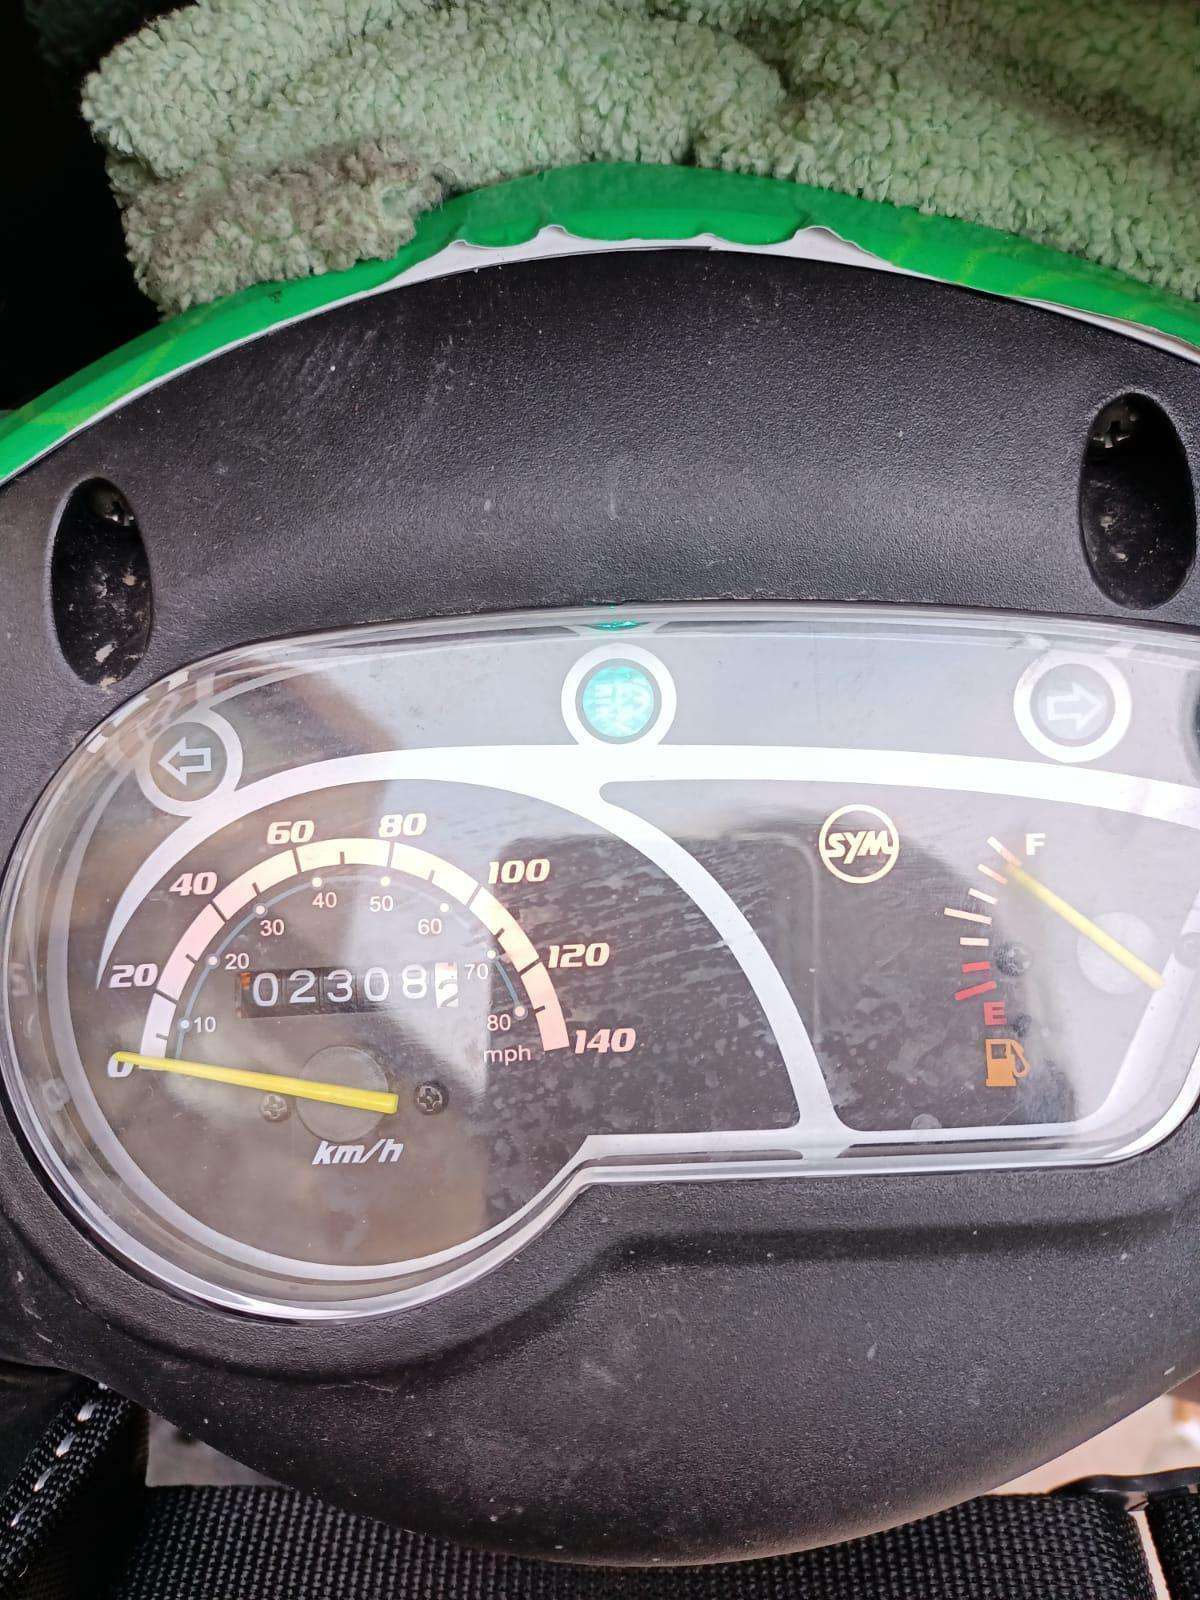0: (363, 963, 391, 1007), (251, 971, 279, 1009), (237, 952, 250, 969)
2: (286, 969, 318, 1008), (435, 976, 460, 1014)
3: (325, 968, 355, 1004)
8: (400, 961, 429, 1002)
odometer: (237, 956, 464, 1022)
